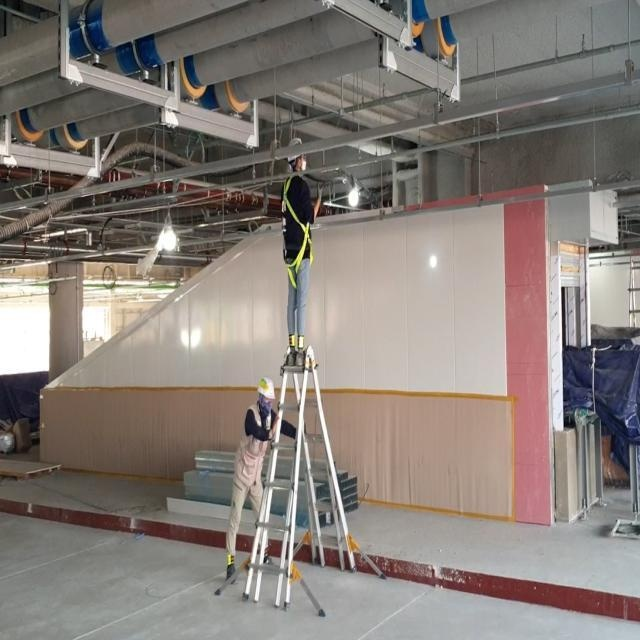Arnes_seguridad: (284, 176, 313, 288)
